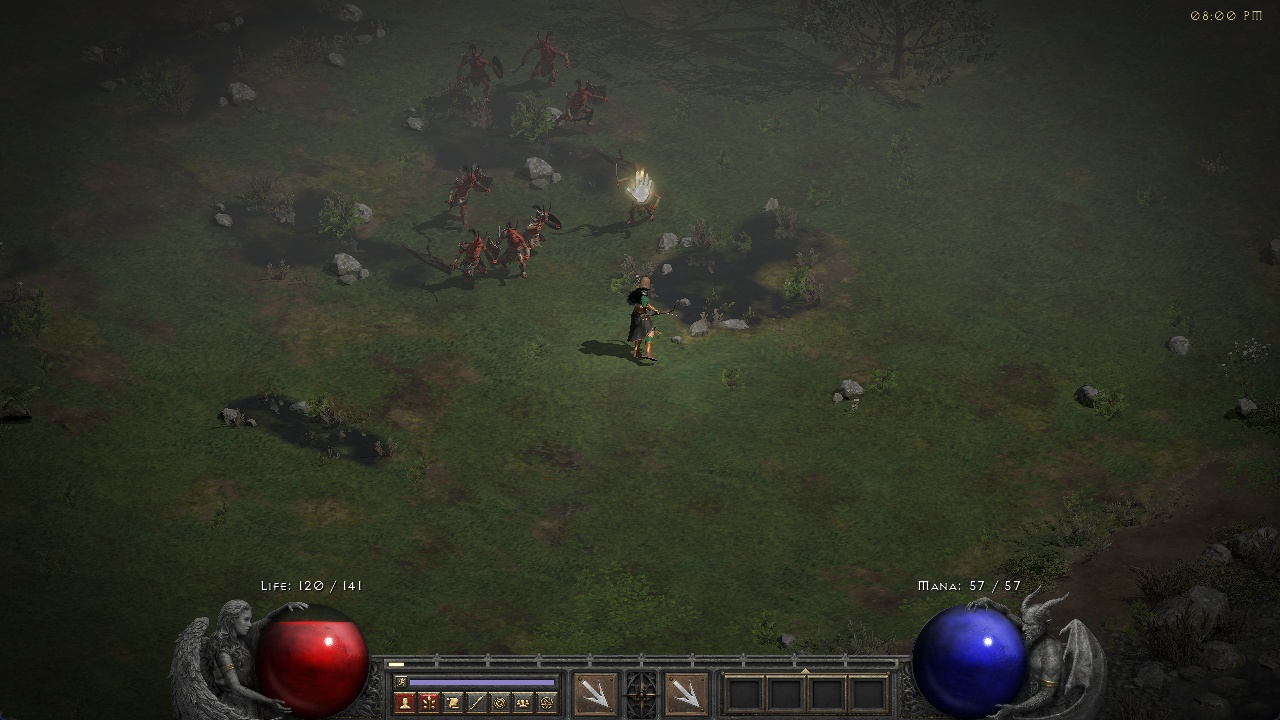fallen: (437, 167, 492, 221), (449, 49, 505, 98), (512, 34, 565, 79), (448, 232, 493, 282), (493, 223, 531, 276), (560, 81, 602, 126), (531, 200, 562, 246), (622, 199, 661, 226)
